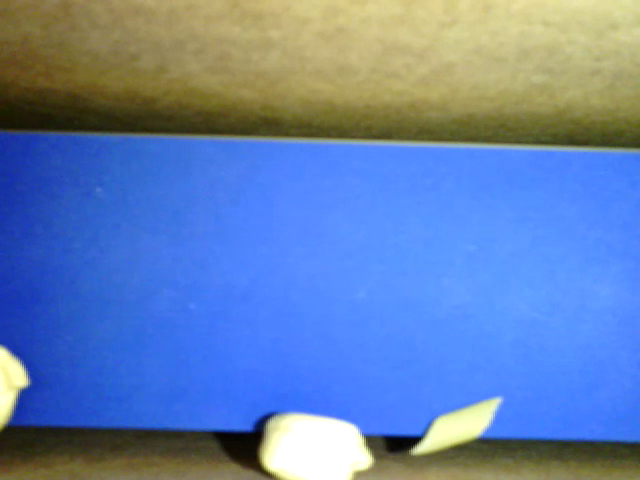penne: (409, 395, 504, 454)
tortellini: (258, 414, 376, 479)
